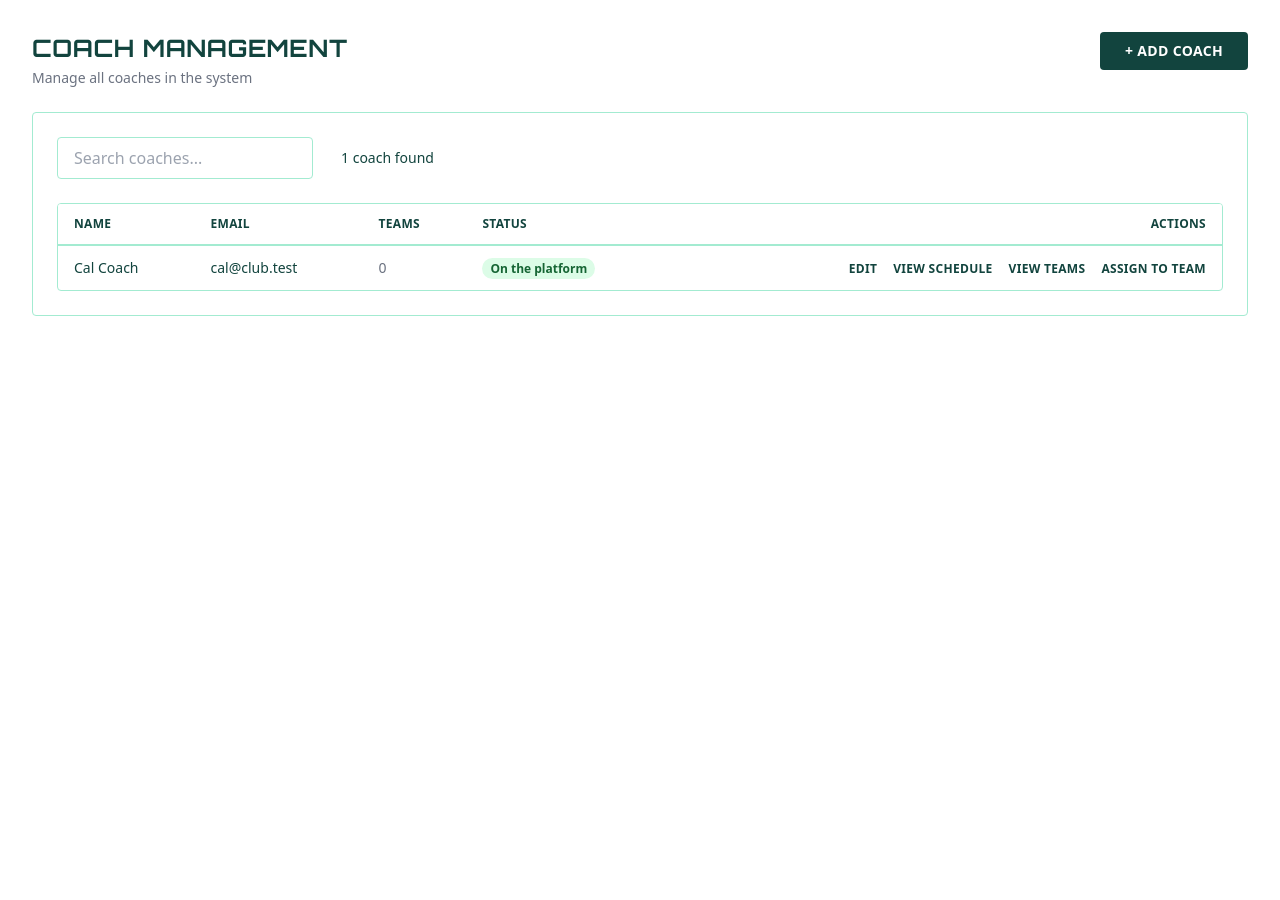
choosing Head coach on a team that has one warns who is replaced
Click the button "Assign to Team" at (1154, 269), box [1101,261,1206,277]
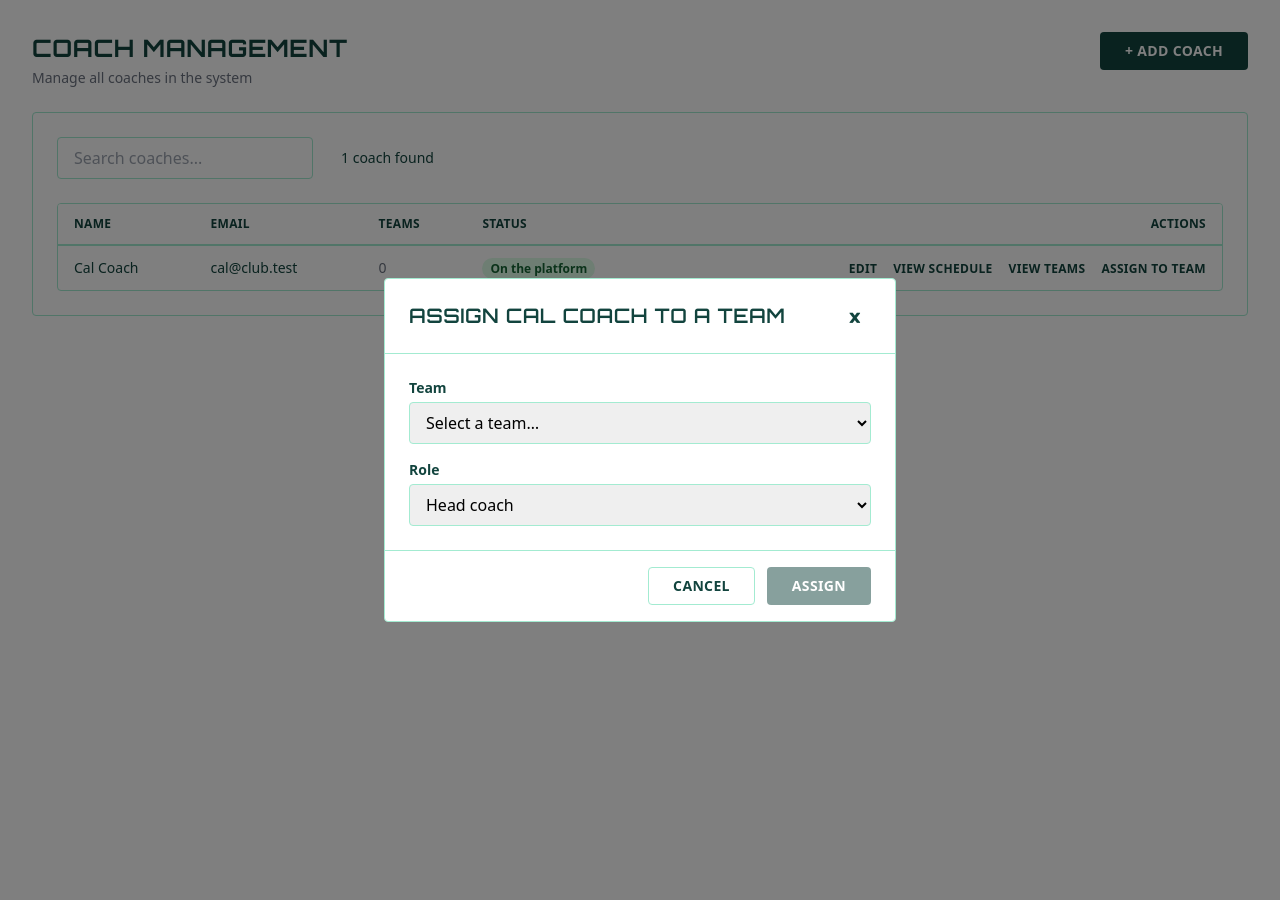
Select "U10 Sharks" in the dropdown labelled "Team" at (640, 423), box [409,402,871,444]
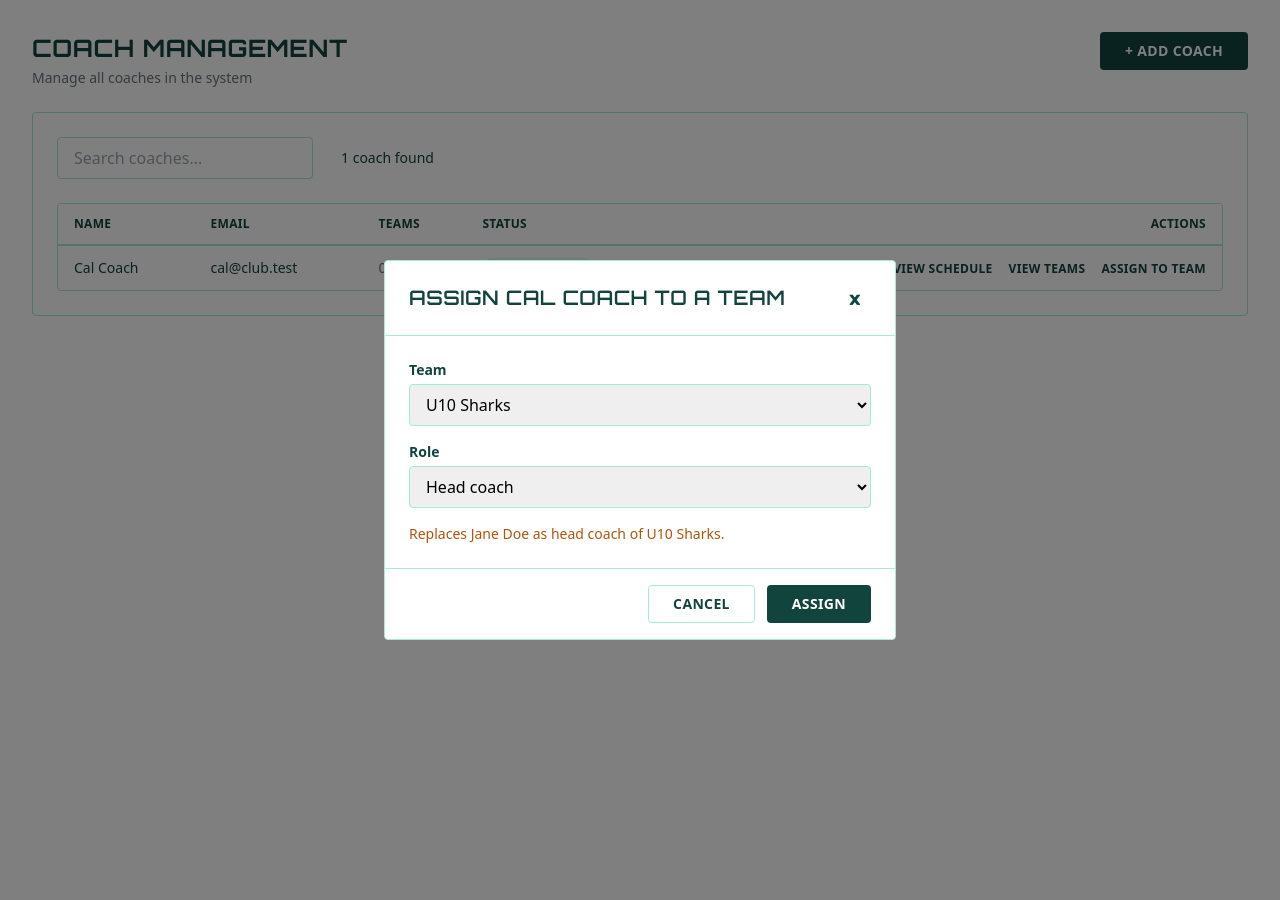
Expected: the text "Replaces Jane Doe as head coach of U10 Sharks." is shown, [409,524,724,543]
// Not as assistant — nobody is replaced.
Select "Assistant coach" in the dropdown labelled "Role" at (640, 487), box [409,466,871,508]
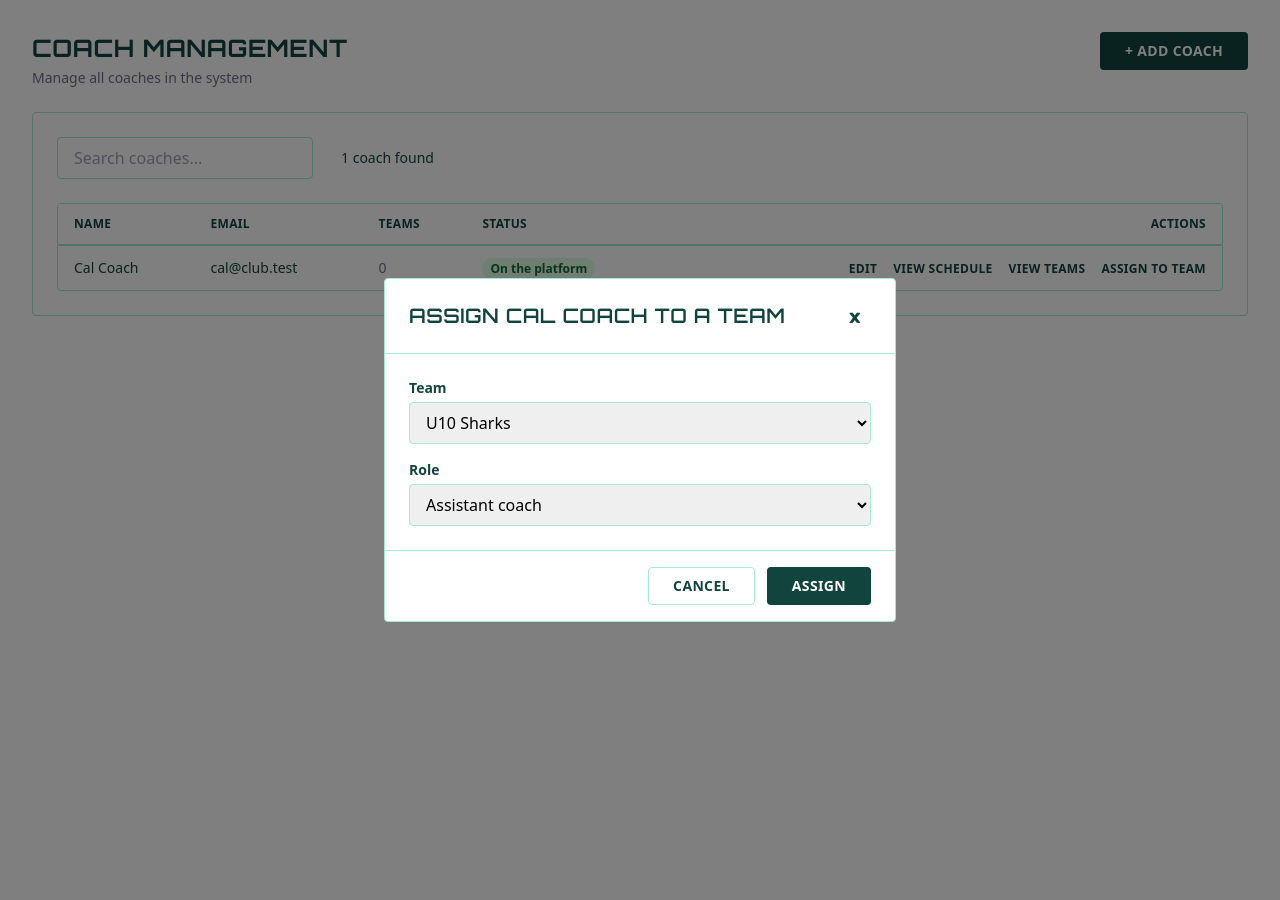
Expected: the text "Replaces Jane Doe" is gone
// And not on a team with no head.
Select "Head coach" in the dropdown labelled "Role" at (640, 505), box [409,484,871,526]
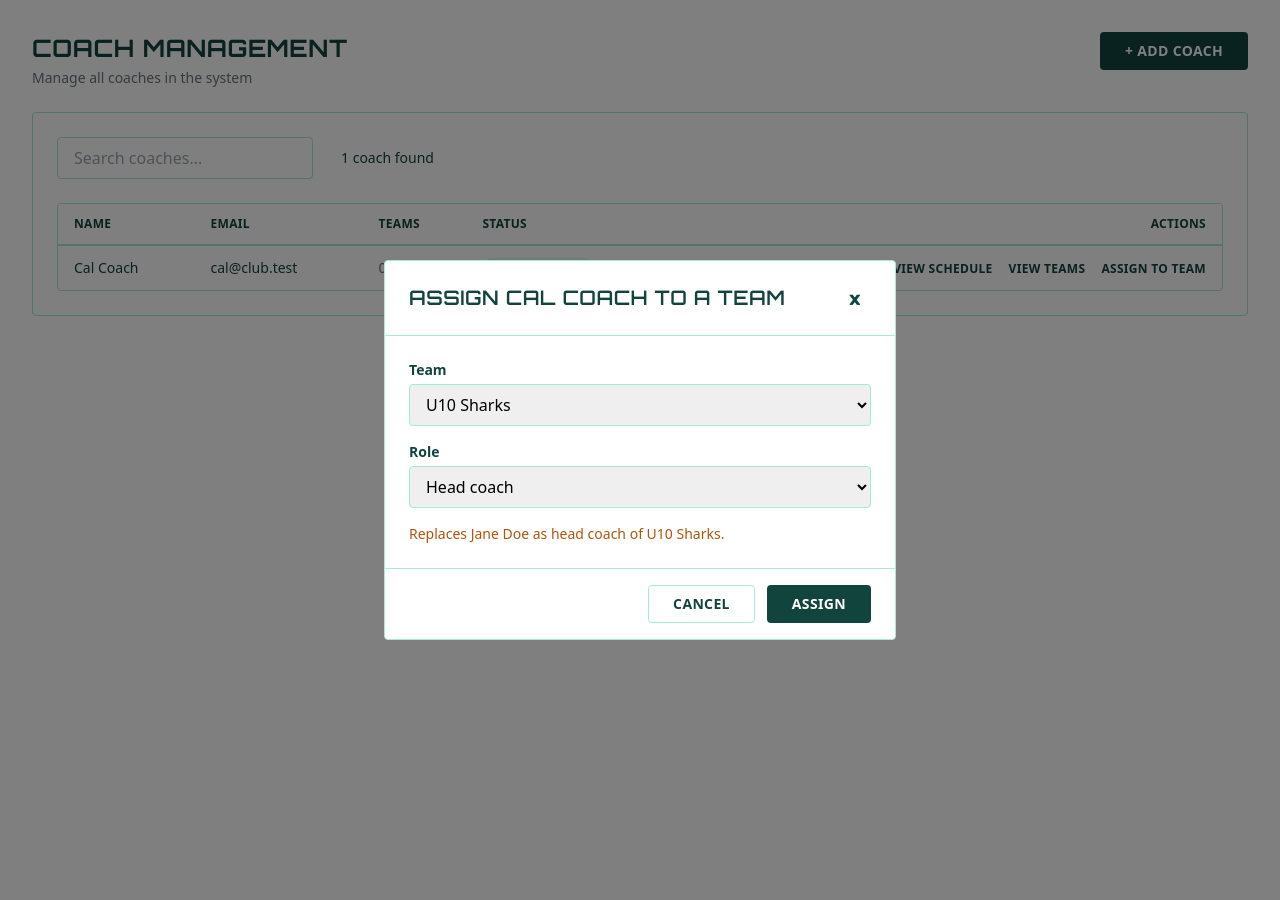
Select "U12 Rays" in the dropdown labelled "Team" at (640, 405), box [409,384,871,426]
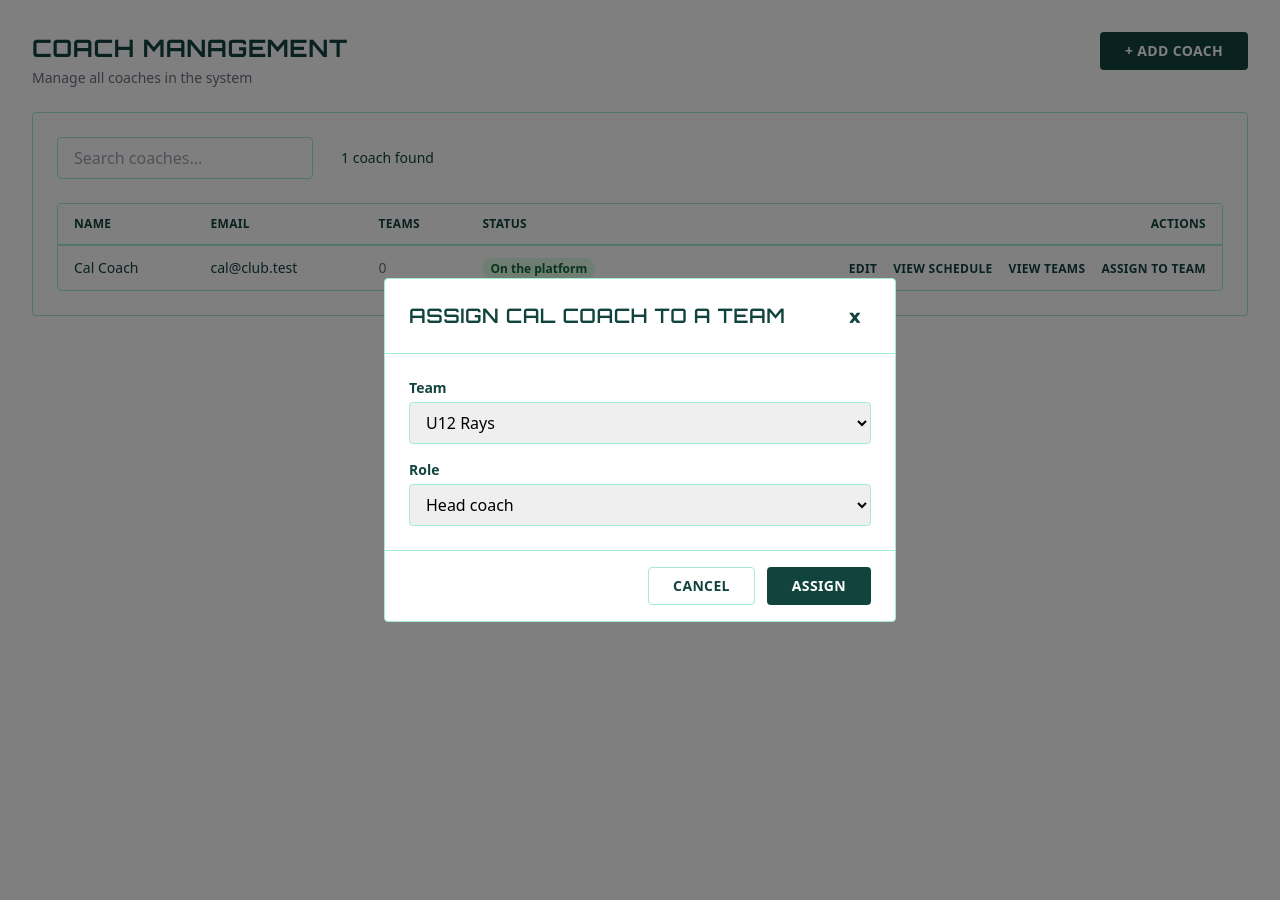
Expected: the text "Replaces" is gone
